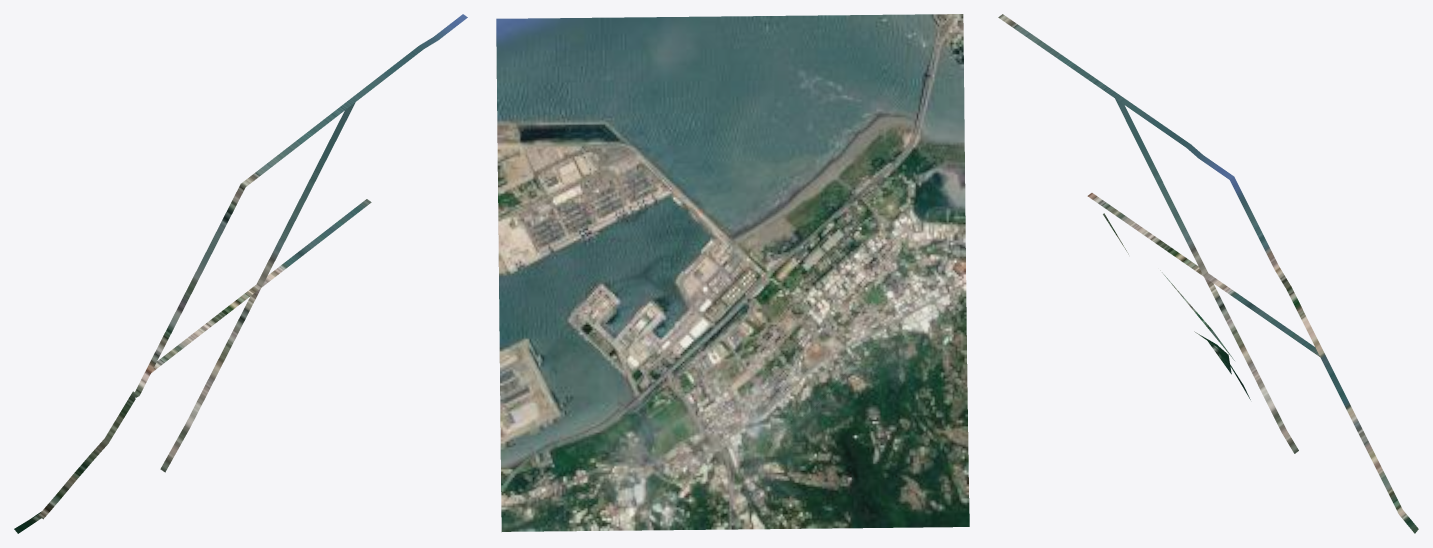
3 views of the same model, side by side, from view 1: azimuth 30°, elevation 25°; view 2: azimuth 150°, elevation 25°; view 3: azimuth 270°, elevation 25° (orthographic). The views are drawn at different scales.
Bounding box in the file's own units: 5121 × 4439 × 4174.
1 material, 1 textured.
